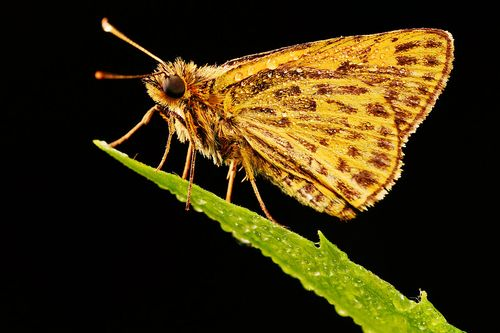Hesperiidae: (86, 15, 459, 194)
